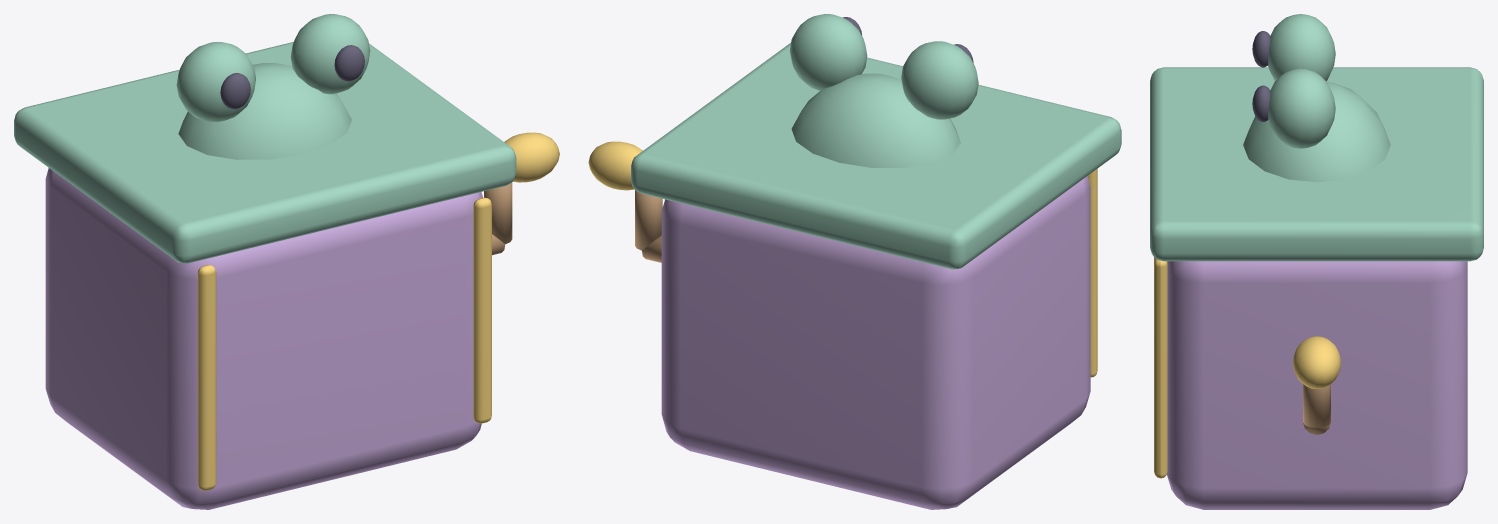
Rendered from play-jack.glb.
3 views of the same model, side by side, from view 1: azimuth 30°, elevation 25°; view 2: azimuth 150°, elevation 25°; view 3: azimuth 270°, elevation 25° (orthographic). The views are drawn at different scales.
Visible parts, largest first — view 1: Scenery surfaces, Hinged lid, Frog surfaces, Crank surfaces; view 2: Scenery surfaces, Hinged lid, Frog surfaces, Crank surfaces; view 3: Scenery surfaces, Hinged lid, Frog surfaces, Crank surfaces.
Boxes of the visible parts, left/top/right/bottom form: Scenery surfaces: left=45, top=168, right=491, bottom=509; Hinged lid: left=14, top=42, right=516, bottom=263; Frog surfaces: left=176, top=14, right=370, bottom=159; Crank surfaces: left=484, top=132, right=559, bottom=255; Scenery surfaces: left=661, top=169, right=1097, bottom=509; Hinged lid: left=631, top=43, right=1121, bottom=269; Frog surfaces: left=789, top=14, right=978, bottom=167; Crank surfaces: left=588, top=141, right=662, bottom=262; Scenery surfaces: left=1154, top=257, right=1467, bottom=509; Hinged lid: left=1150, top=67, right=1483, bottom=261; Frog surfaces: left=1243, top=14, right=1390, bottom=182; Crank surfaces: left=1292, top=336, right=1341, bottom=434.
Size of the model in its own units: 0.975 by 0.825 by 0.62.
